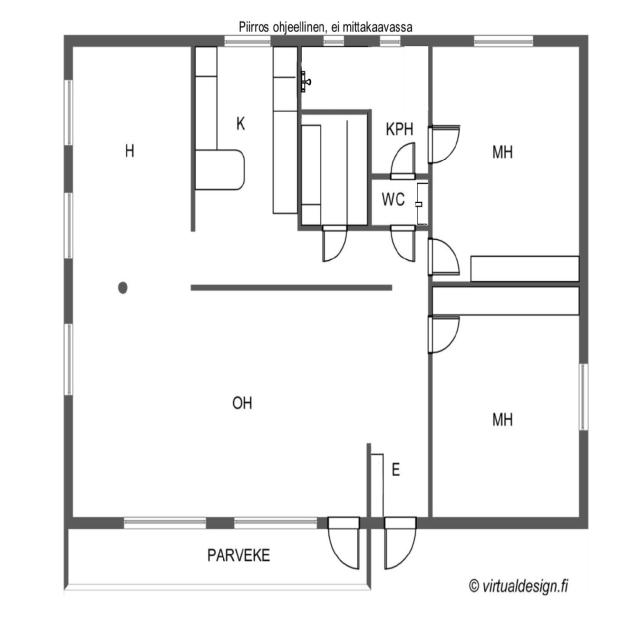door: (370, 175, 430, 228), (324, 512, 366, 574), (380, 514, 419, 573), (423, 121, 463, 165), (387, 133, 419, 182), (425, 312, 463, 353), (426, 235, 463, 276), (318, 221, 350, 266), (389, 222, 417, 264)
window: (119, 508, 208, 537), (229, 508, 320, 536), (573, 354, 595, 440), (58, 315, 78, 404), (467, 30, 539, 52), (59, 184, 78, 266), (216, 27, 277, 52), (59, 74, 77, 153), (371, 31, 407, 51), (317, 32, 348, 50)
zone: (68, 288, 432, 520), (429, 39, 584, 285), (426, 300, 584, 521), (192, 41, 300, 292), (68, 42, 196, 238), (368, 365, 432, 520), (298, 45, 428, 111), (298, 110, 370, 227), (368, 176, 432, 226)
